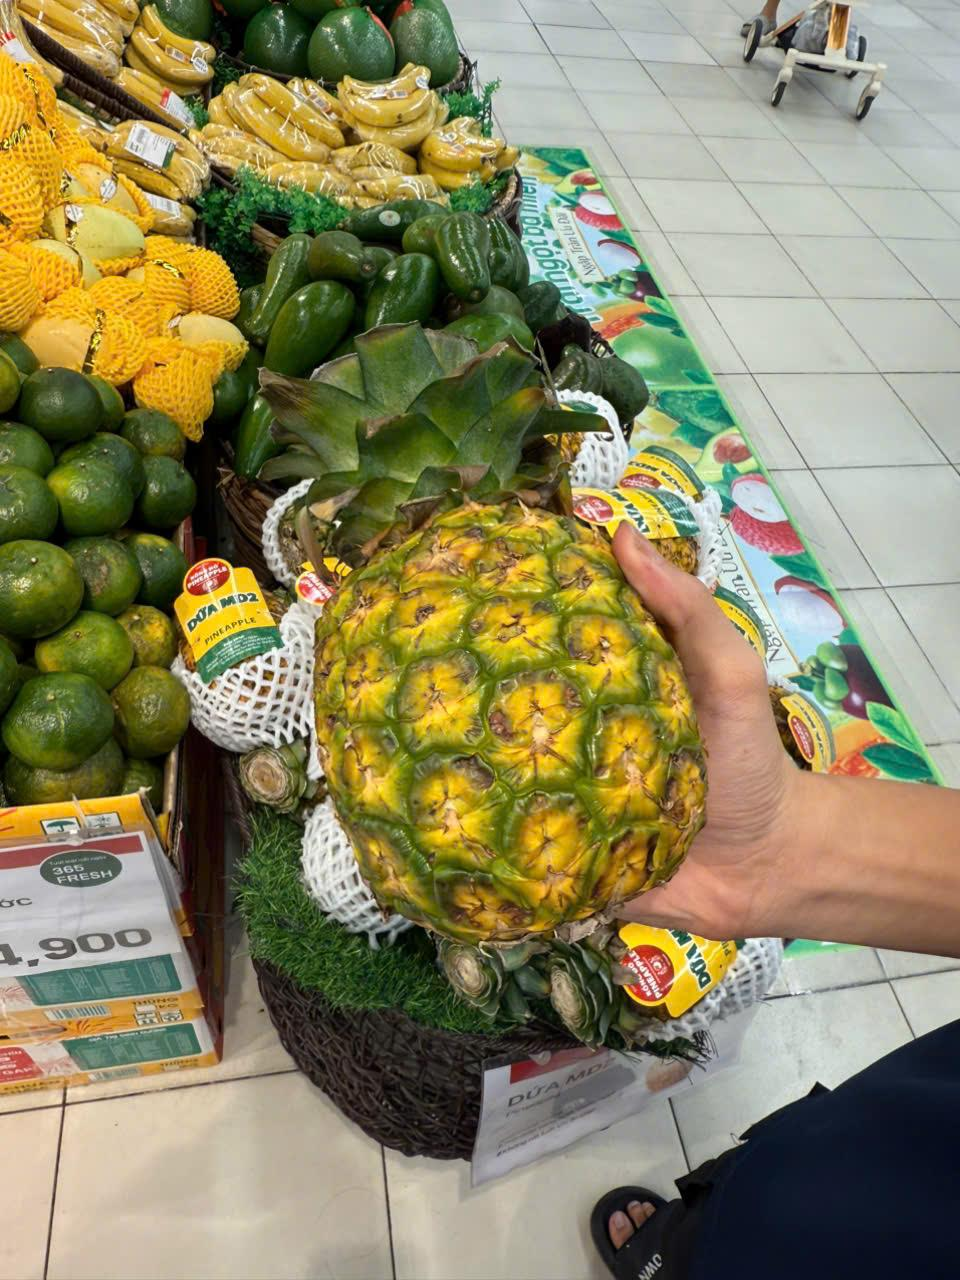pineapple: (250, 206, 716, 941)
